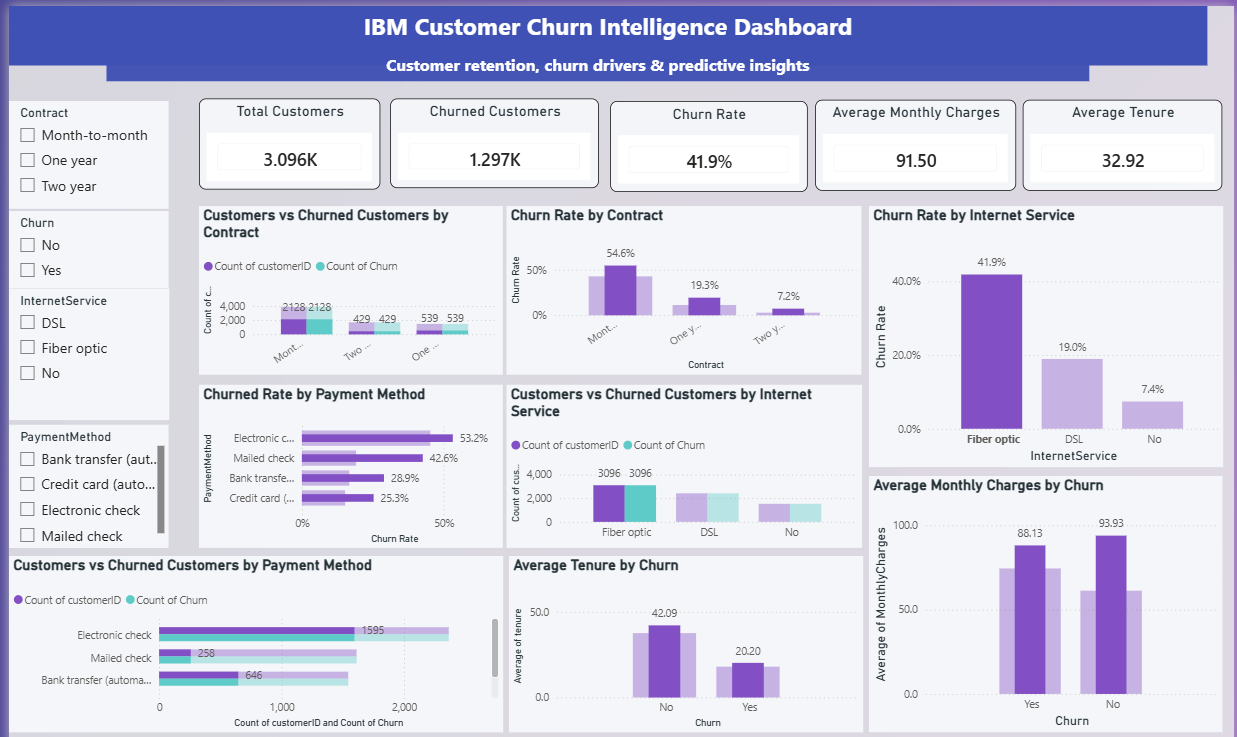

This screenshot's page, from the dashboard's own definition file:
{"tool":"powerbi","page":{"name":"Page 1: Customer Churn Executive Dashboard","canvas":[1400,1800],"ordinal":0},"visuals":[{"type":"cardVisual","title":"Total Customers ","fields":{"Data":["Count(cleaned_ibm_churn.customerID)"]},"box":[217.6,105.9,207.2,104.1],"z":0},{"type":"cardVisual","title":"Churned Customers","fields":{"Data":["Count(cleaned_ibm_churn.customerID)"]},"box":[435.3,105.9,238.8,102.5],"z":1000},{"type":"cardVisual","title":"Churn Rate","fields":{"Data":["cleaned_ibm_churn.Churn Rate"]},"box":[687.7,109.2,225.2,104.1],"z":2000},{"type":"cardVisual","title":"Average Monthly Charges","fields":{"Data":["Avg(cleaned_ibm_churn.MonthlyCharges)"]},"box":[920.9,107.1,229.2,104.1],"z":3000},{"type":"cardVisual","title":"Average Tenure","fields":{"Data":["Avg(cleaned_ibm_churn.tenure)"]},"box":[1158.2,107.1,228.2,104.1],"z":4000},{"type":"clusteredColumnChart","title":"Customers vs Churned Customers by Contract","fields":{"Category":["cleaned_ibm_churn.Contract"],"Y":["Count(cleaned_ibm_churn.customerID)","CountNonNull(cleaned_ibm_churn.Churn)"]},"box":[217.6,227.9,347.1,192.6],"z":5000},{"type":"clusteredColumnChart","title":"Churn Rate by Contract","fields":{"Category":["cleaned_ibm_churn.Contract"],"Y":["cleaned_ibm_churn.Churn Rate"]},"box":[569.1,227.9,405.9,192.6],"z":6000},{"type":"clusteredBarChart","title":"Customers vs Churned Customers by Payment Method","fields":{"Category":["cleaned_ibm_churn.PaymentMethod"],"Y":["Count(cleaned_ibm_churn.customerID)","CountNonNull(cleaned_ibm_churn.Churn)"]},"box":[0,627.9,564.7,201.5],"z":8000},{"type":"clusteredBarChart","title":"Churned Rate by Payment Method","fields":{"Category":["cleaned_ibm_churn.PaymentMethod"],"Y":["cleaned_ibm_churn.Churn Rate"]},"box":[217.6,432.4,347.1,186.8],"z":9000},{"type":"clusteredColumnChart","title":"Customers vs Churned Customers by Internet Service","fields":{"Category":["cleaned_ibm_churn.InternetService"],"Y":["CountNonNull(cleaned_ibm_churn.customerID)","CountNonNull(cleaned_ibm_churn.Churn)"]},"box":[569.1,432.4,406.7,186.7],"z":10000},{"type":"clusteredColumnChart","title":"Churn Rate by Internet Service","fields":{"Category":["cleaned_ibm_churn.InternetService"],"Y":["cleaned_ibm_churn.Churn Rate"]},"box":[982.9,228.6,404.8,298.4],"z":11000},{"type":"clusteredColumnChart","title":"Average Tenure by Churn","fields":{"Category":["cleaned_ibm_churn.Churn"],"Y":["Avg(cleaned_ibm_churn.tenure)"]},"box":[572.1,627.9,404.4,201.5],"z":12000},{"type":"clusteredColumnChart","title":"Average Monthly Charges by Churn","fields":{"Category":["cleaned_ibm_churn.Churn"],"Y":["Avg(cleaned_ibm_churn.MonthlyCharges)"]},"box":[982.9,537.1,404.3,292.9],"z":13000},{"type":"textbox","box":[0,0,1369.4,67.7],"z":16000},{"type":"textbox","box":[111.4,50,1122.9,35.7],"z":17000},{"type":"slicer","fields":{"Values":["cleaned_ibm_churn.Churn"]},"box":[0,233.8,182.4,88.2],"z":18000},{"type":"slicer","fields":{"Values":["cleaned_ibm_churn.Contract"]},"box":[0,108.8,182.4,123.5],"z":19000},{"type":"slicer","fields":{"Values":["cleaned_ibm_churn.InternetService"]},"box":[0,323.5,183,150],"z":20000},{"type":"slicer","fields":{"Values":["cleaned_ibm_churn.PaymentMethod"]},"box":[0,477.9,182.4,141.2],"z":21000}]}

Visuals, with their boxes on the page's 1400x1800 design canvas (x1, y1, x2, y2). These are canvas units, not pixel positions in the 1237x737 screenshot, which may show the page scaled, cropped or inside an application window:
"Total Customers " cardVisual: 218,106,425,210
"Churned Customers" cardVisual: 435,106,674,208
"Churn Rate" cardVisual: 688,109,913,213
"Average Monthly Charges" cardVisual: 921,107,1150,211
"Average Tenure" cardVisual: 1158,107,1386,211
"Customers vs Churned Customers by Contract" clusteredColumnChart: 218,228,565,420
"Churn Rate by Contract" clusteredColumnChart: 569,228,975,420
"Customers vs Churned Customers by Payment Method" clusteredBarChart: 0,628,565,829
"Churned Rate by Payment Method" clusteredBarChart: 218,432,565,619
"Customers vs Churned Customers by Internet Service" clusteredColumnChart: 569,432,976,619
"Churn Rate by Internet Service" clusteredColumnChart: 983,229,1388,527
"Average Tenure by Churn" clusteredColumnChart: 572,628,976,829
"Average Monthly Charges by Churn" clusteredColumnChart: 983,537,1387,830
textbox: 0,0,1369,68
textbox: 111,50,1234,86
slicer - cleaned_ibm_churn.Churn: 0,234,182,322
slicer - cleaned_ibm_churn.Contract: 0,109,182,232
slicer - cleaned_ibm_churn.InternetService: 0,324,183,474
slicer - cleaned_ibm_churn.PaymentMethod: 0,478,182,619
